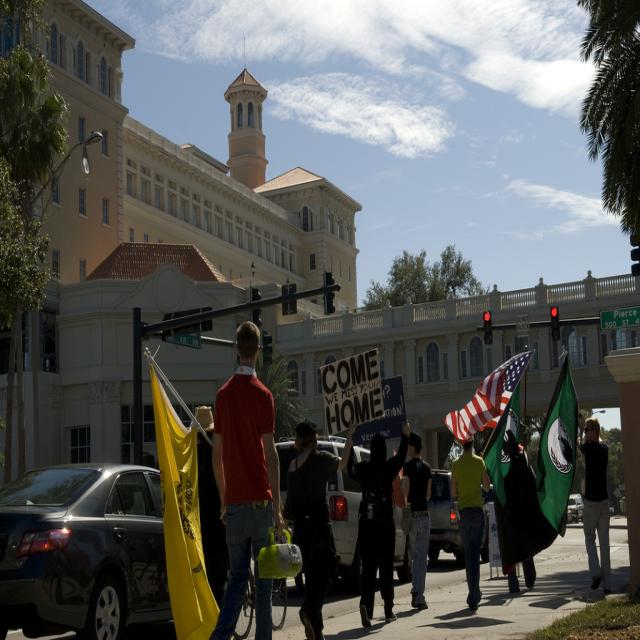car: (0, 453, 166, 638)
